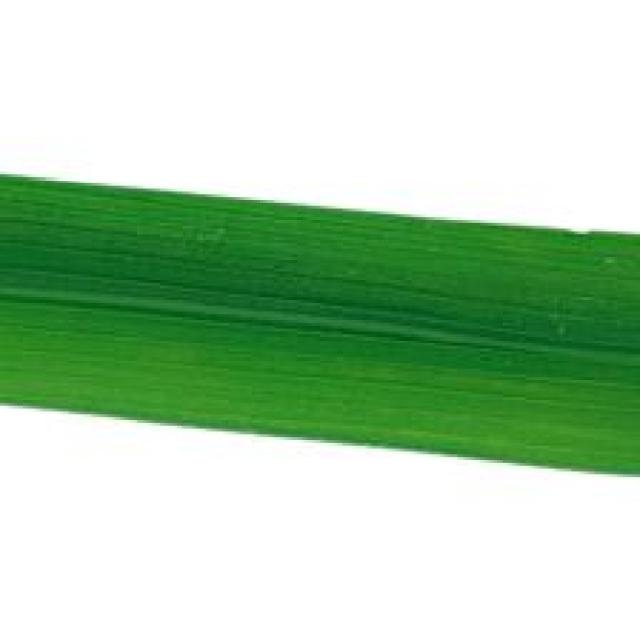Rice___Healthy_Rice_Plant: (0, 173, 637, 477)
